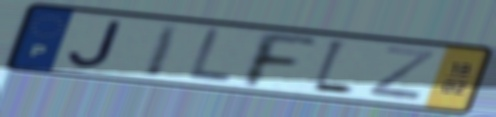F: (241, 29, 321, 91)
I: (140, 21, 185, 79)
J: (66, 19, 125, 70)
L: (307, 37, 357, 99), (184, 26, 235, 86)
Z: (363, 44, 440, 103)
